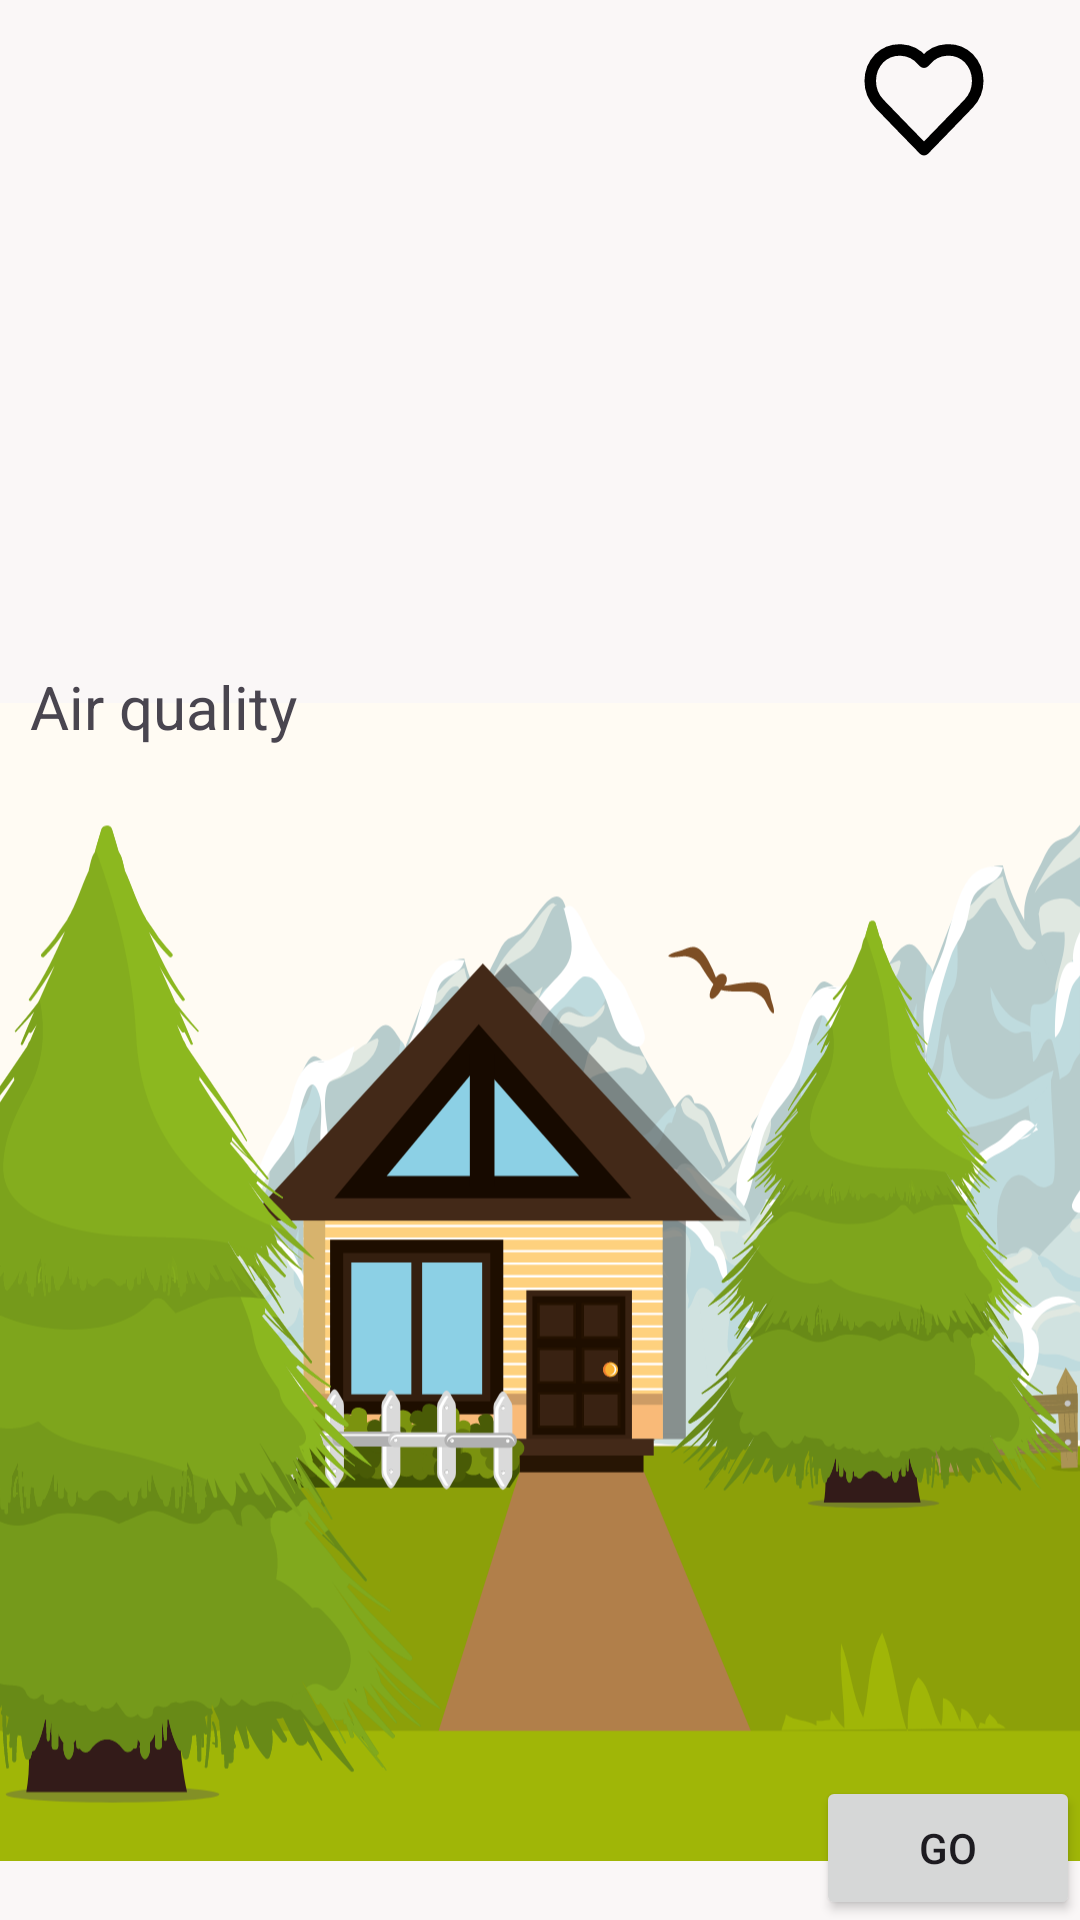

Named icons in this screenshot (1080*1920) and their centers, (x,y):
heart: (924,100)
